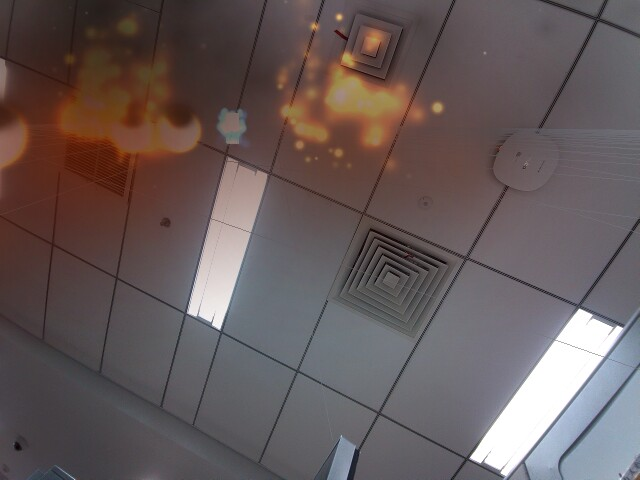fire: (153, 107, 202, 153), (0, 105, 33, 172), (110, 110, 155, 155)
